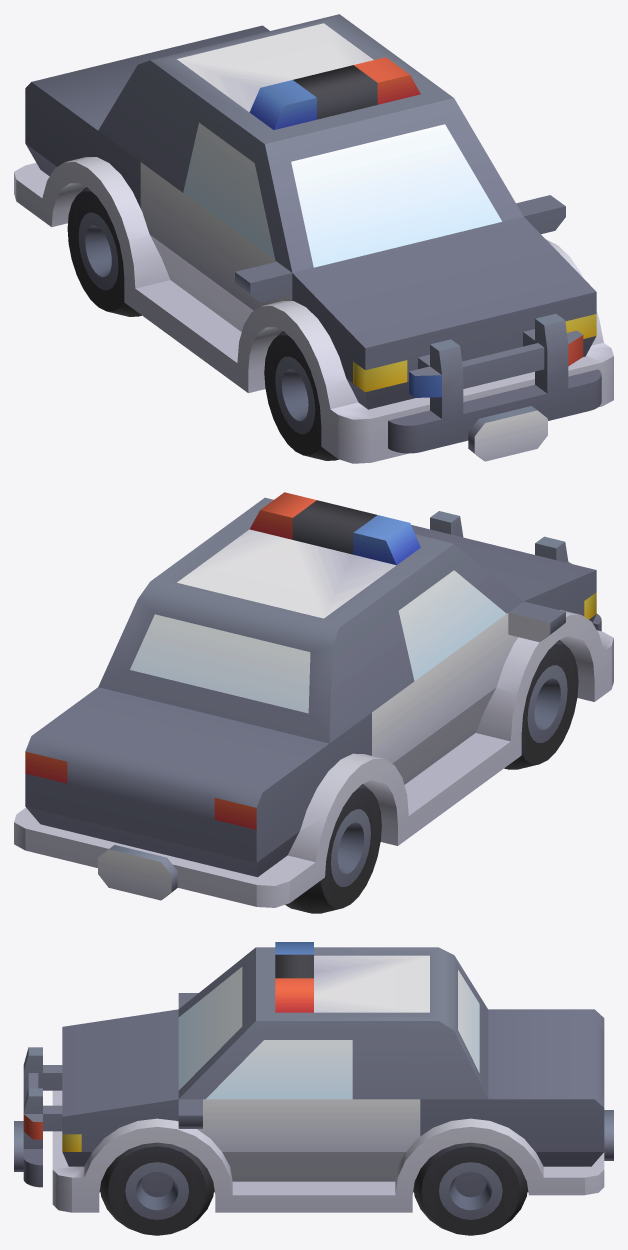
Rendered from k-car-police.glb.
3 views of the same model, one above another, from view 1: azimuth 30°, elevation 25°; view 2: azimuth 150°, elevation 25°; view 3: azimuth 270°, elevation 25° (orthographic). The views are drawn at different scales.
Parts seen in each view (by area): view 1: body, grill, wheel-front-right, wheel-back-right; view 2: body, wheel-back-right, wheel-front-right, grill; view 3: body, wheel-front-left, wheel-back-left, grill.
Boxes of the visible parts, x1=… form: body: x1=14, y1=14, x2=613, y2=463; grill: x1=388, y1=313, x2=601, y2=461; wheel-front-right: x1=264, y1=331, x2=339, y2=460; wheel-back-right: x1=67, y1=187, x2=141, y2=316; body: x1=14, y1=492, x2=613, y2=907; wheel-back-right: x1=285, y1=784, x2=381, y2=913; wheel-front-right: x1=504, y1=640, x2=578, y2=769; grill: x1=430, y1=511, x2=601, y2=631; body: x1=52, y1=942, x2=613, y2=1212; wheel-front-left: x1=100, y1=1142, x2=214, y2=1235; wheel-back-left: x1=413, y1=1142, x2=527, y2=1235; grill: x1=14, y1=1047, x2=62, y2=1187.
Bounding box in the file's own units: 1.5 × 1.3 × 3.1.
Materials: 1 (1 with a texture image).
